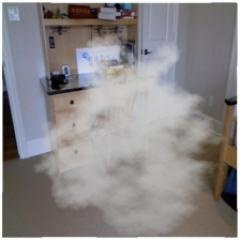smoke: (81, 75, 197, 194)
